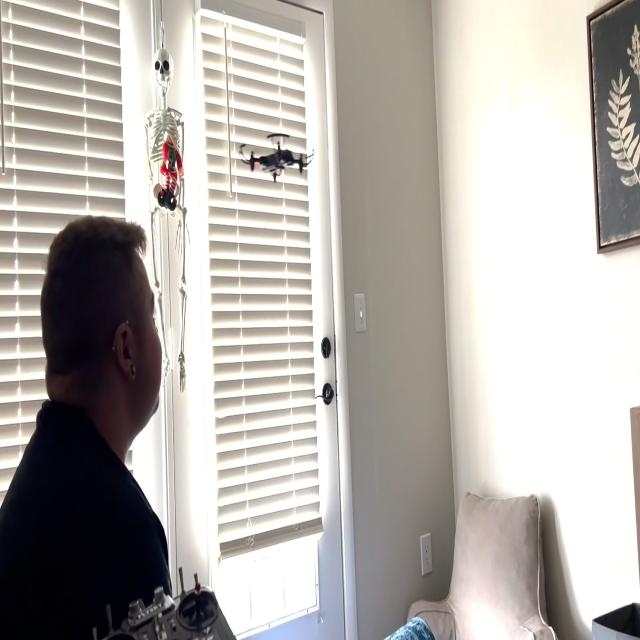drone: (233, 121, 319, 188)
